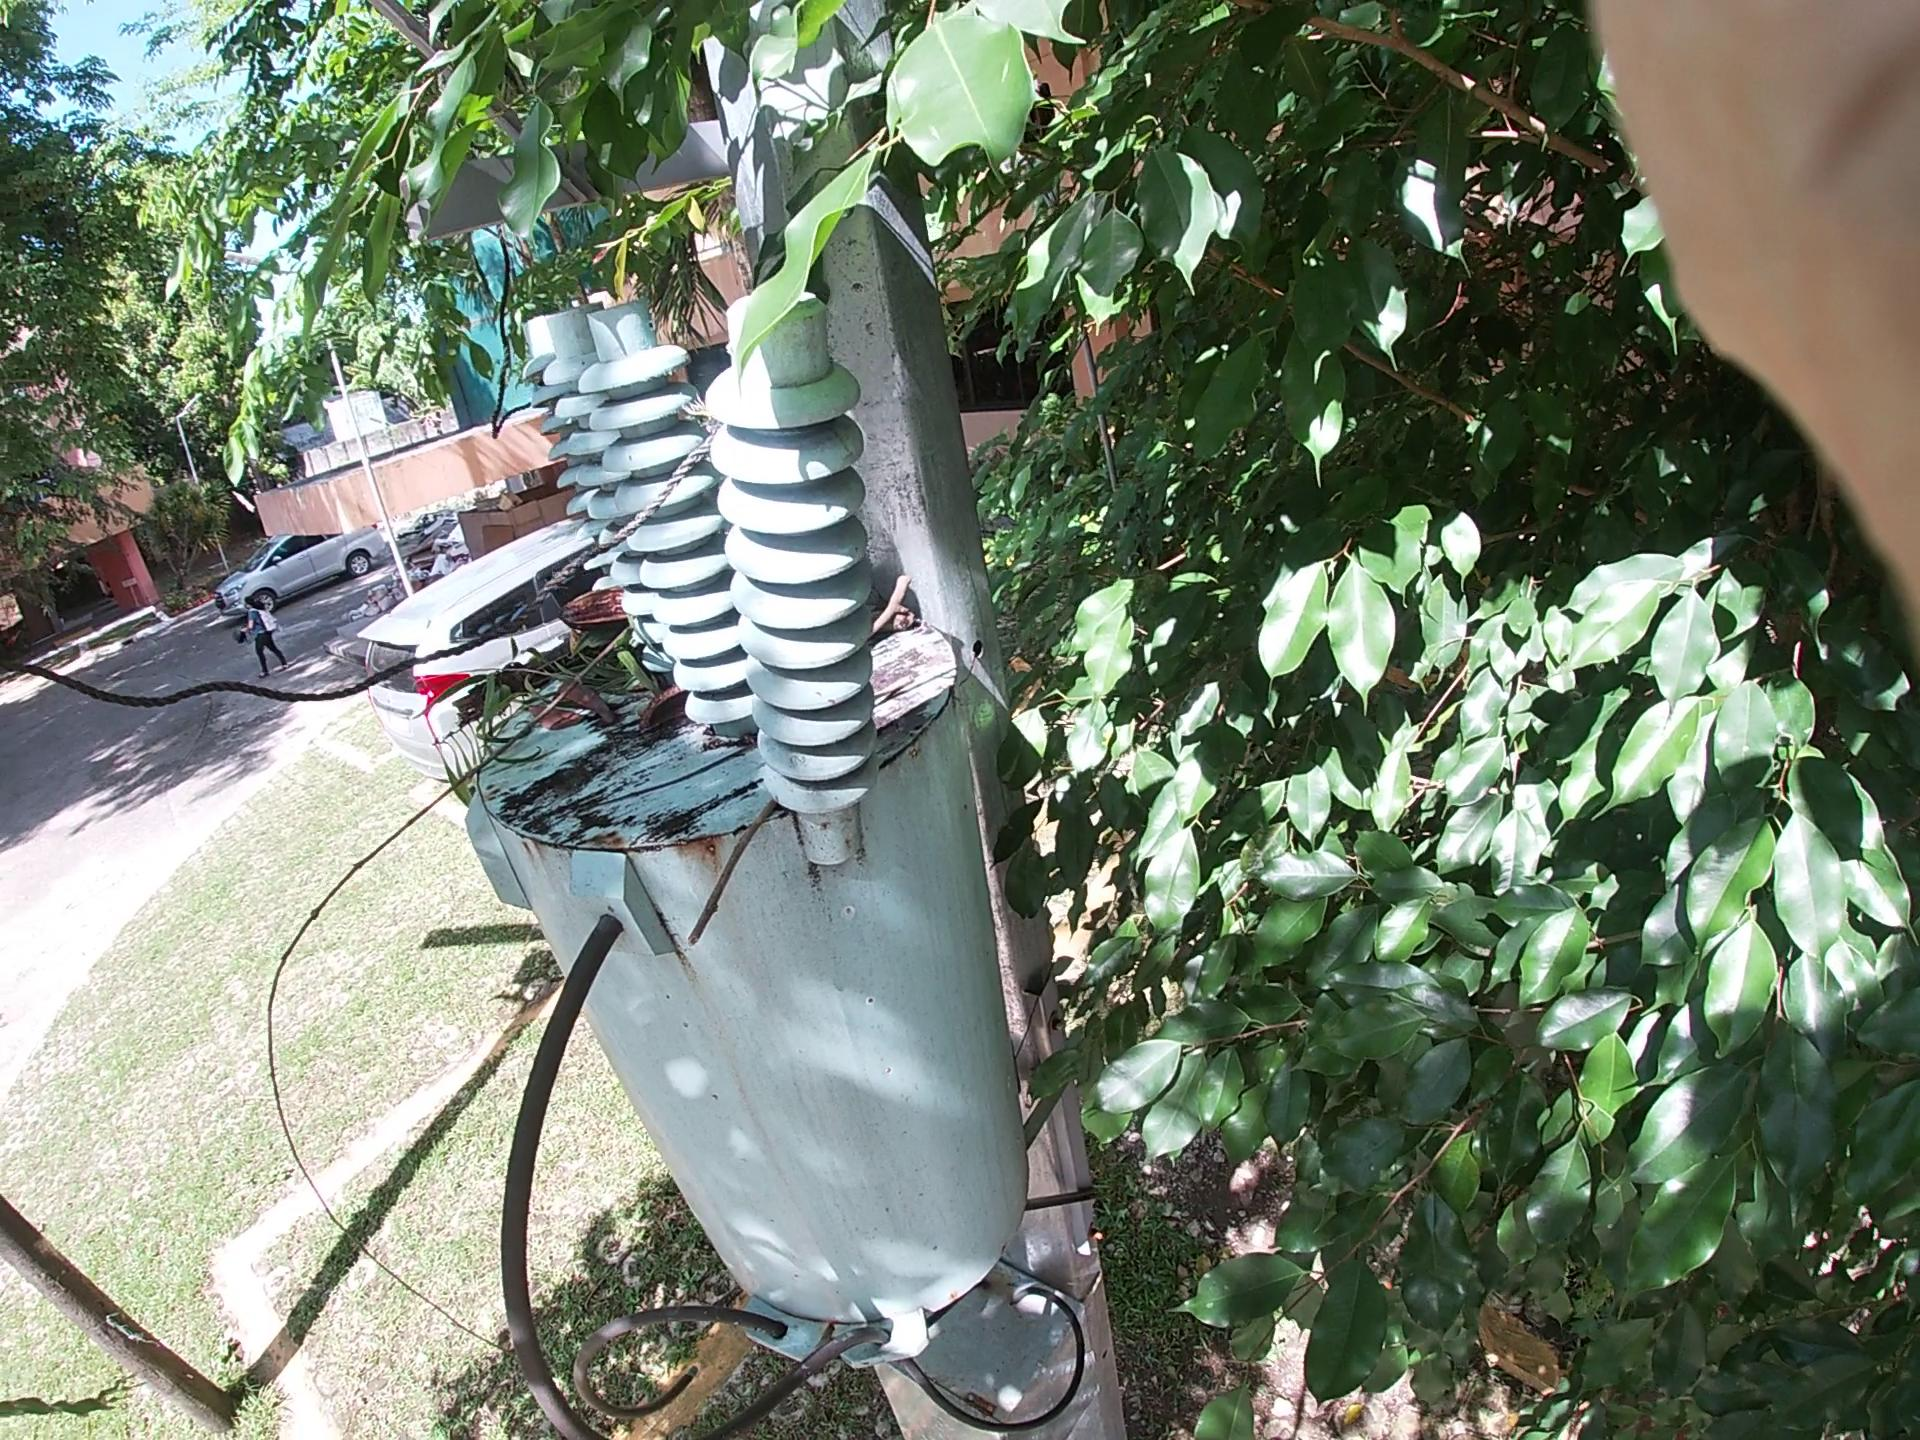branch with leaves: (429, 551, 723, 743)
leaf: (562, 664, 602, 762)
mahogany fruit: (621, 669, 803, 784), (525, 551, 646, 691)
tree branch: (192, 610, 627, 1100), (721, 731, 831, 961)
